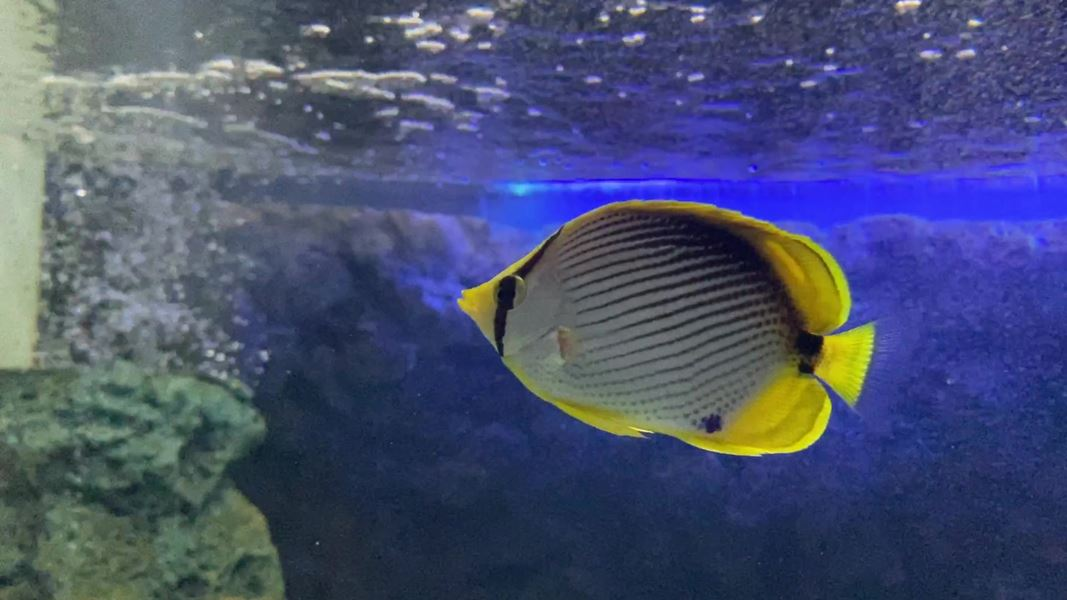Black-backed butterflyfish: (447, 186, 933, 470)
